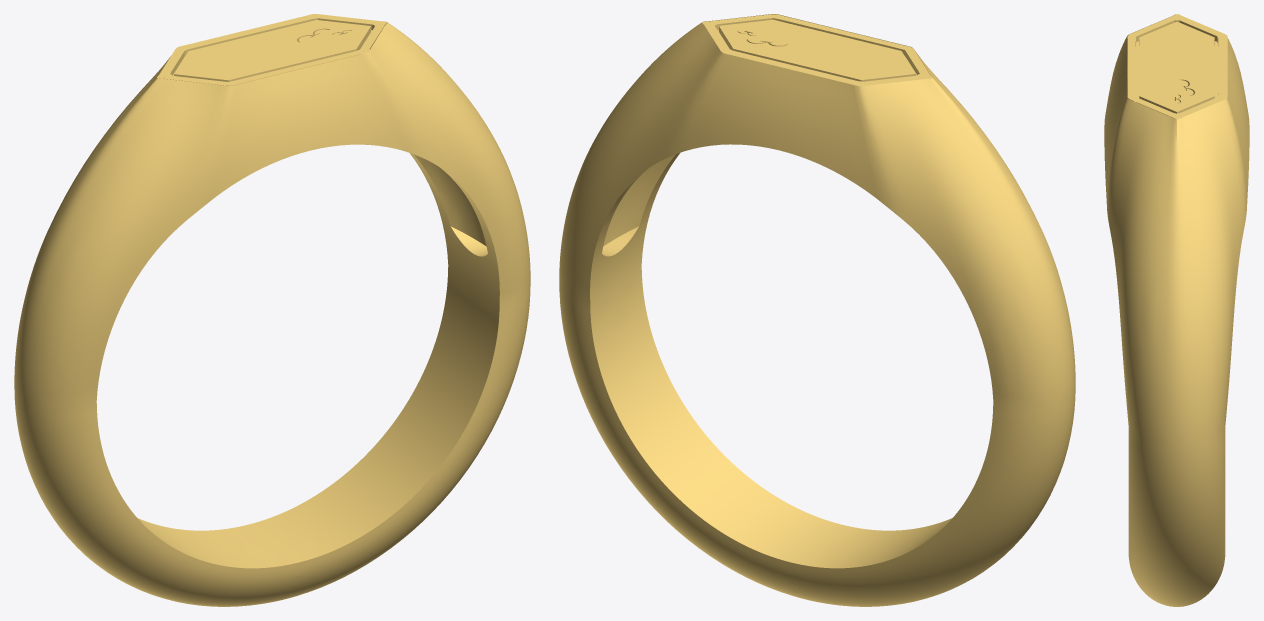
File: TracyV2YG_blender.glb
The picture shows the model from 3 angles, left to right: view 1: azimuth 30°, elevation 25°; view 2: azimuth 150°, elevation 25°; view 3: azimuth 270°, elevation 25°; orthographic projection. The views are drawn at different scales.
Visible parts, largest first — view 1: v2 Tracy YG for 3d model; view 2: v2 Tracy YG for 3d model; view 3: v2 Tracy YG for 3d model.
Part boxes in pixels (bbox=[...]): v2 Tracy YG for 3d model: bbox=[14, 14, 530, 606]; v2 Tracy YG for 3d model: bbox=[559, 14, 1075, 606]; v2 Tracy YG for 3d model: bbox=[1104, 14, 1249, 606].
Size of the model in its own units: 21.94 by 22.74 by 5.82.
